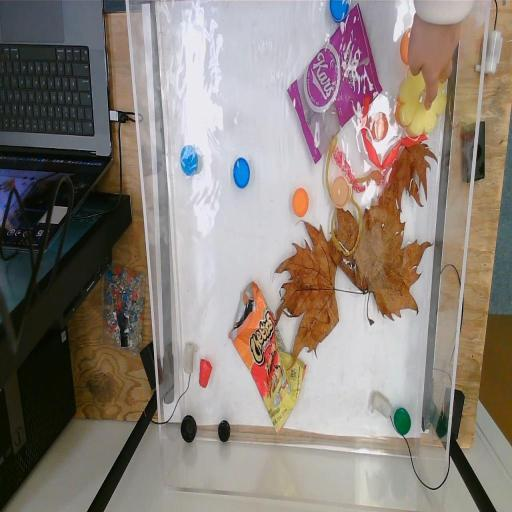Bottle Cap: (332, 174, 352, 209), (400, 24, 418, 62), (180, 144, 200, 178), (233, 154, 251, 190), (292, 186, 310, 220), (394, 405, 412, 437), (180, 414, 198, 444), (371, 112, 389, 142), (328, 0, 350, 21), (216, 419, 232, 445)
Cone Cap: (199, 356, 212, 388)
Leaf: (326, 181, 434, 329), (272, 218, 366, 372), (383, 136, 439, 210)
Netting: (334, 148, 403, 192)
Plastic Bag: (288, 3, 382, 163), (227, 280, 307, 438)
Plastic Strand: (324, 132, 374, 258), (362, 92, 428, 172)
Sponge: (398, 63, 448, 135)
